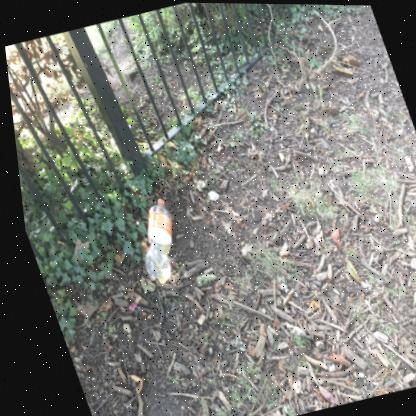Plastic: (138, 198, 166, 283), (121, 301, 132, 309)
Waste: (152, 197, 158, 202)
